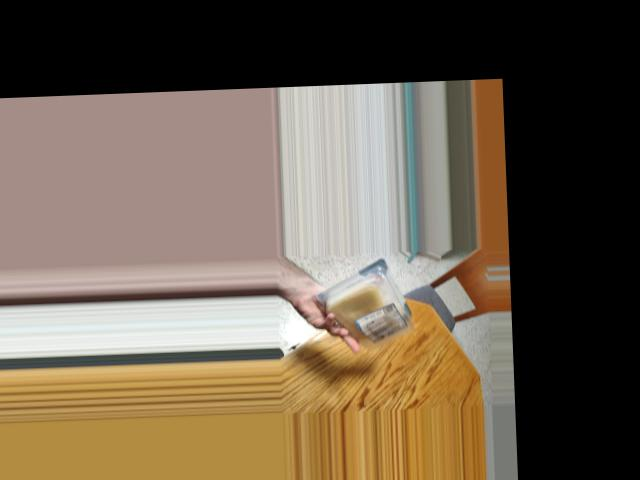cheese: (320, 268, 419, 348)
